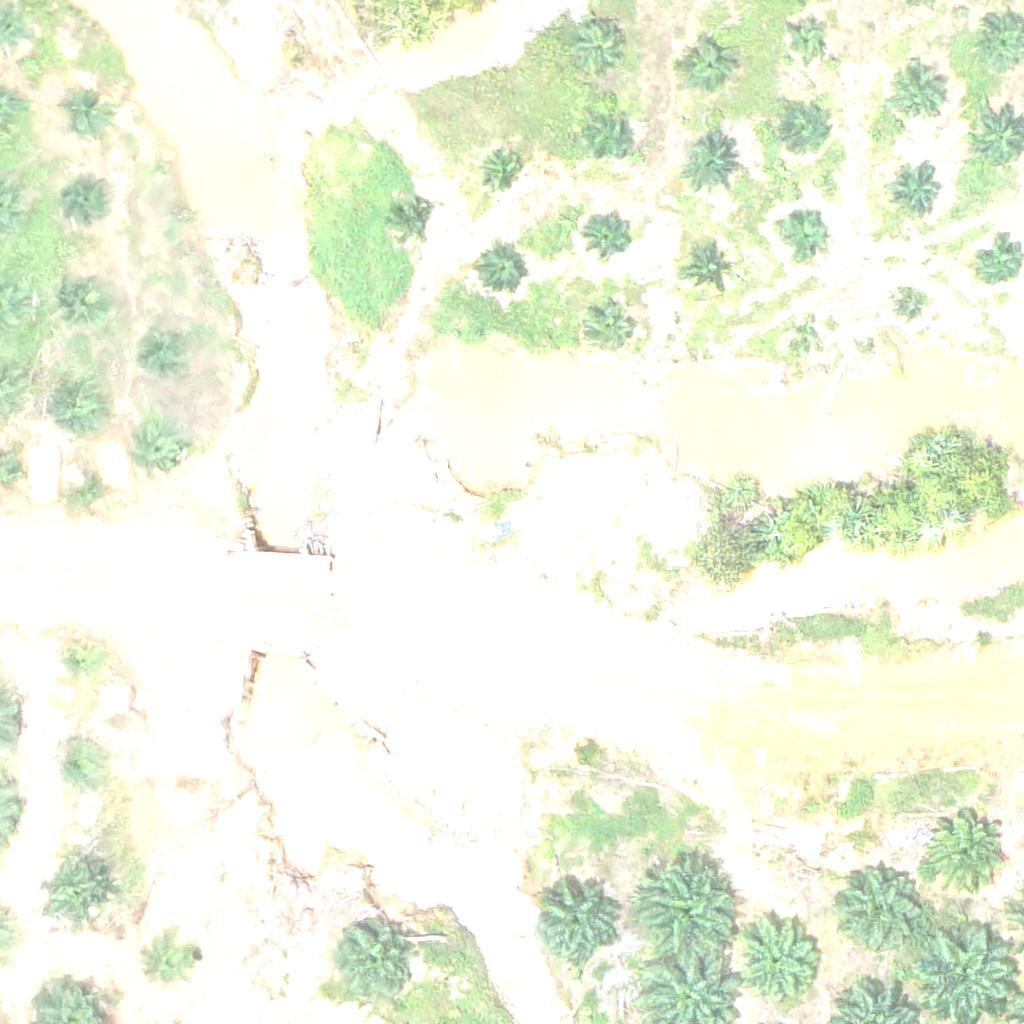Kelapa_Sawit: (637, 856, 737, 957), (840, 866, 928, 954), (733, 921, 821, 1009), (532, 881, 620, 969), (331, 922, 418, 1010), (920, 809, 1007, 897), (37, 858, 112, 934), (50, 373, 113, 436), (679, 136, 742, 199), (888, 65, 950, 128), (50, 268, 112, 331), (144, 930, 206, 993), (63, 464, 113, 515), (777, 203, 827, 254), (781, 104, 831, 155), (679, 41, 729, 92), (573, 26, 623, 77), (584, 109, 634, 160), (584, 207, 634, 258), (684, 246, 734, 297), (892, 169, 942, 219), (973, 236, 1023, 286), (66, 179, 116, 229), (62, 89, 112, 139), (475, 247, 525, 297), (134, 430, 184, 480), (144, 325, 194, 375), (56, 638, 106, 688), (52, 745, 102, 795), (586, 308, 636, 358), (478, 143, 528, 193), (387, 199, 437, 249), (787, 20, 824, 58), (898, 289, 923, 314), (803, 323, 828, 348)
